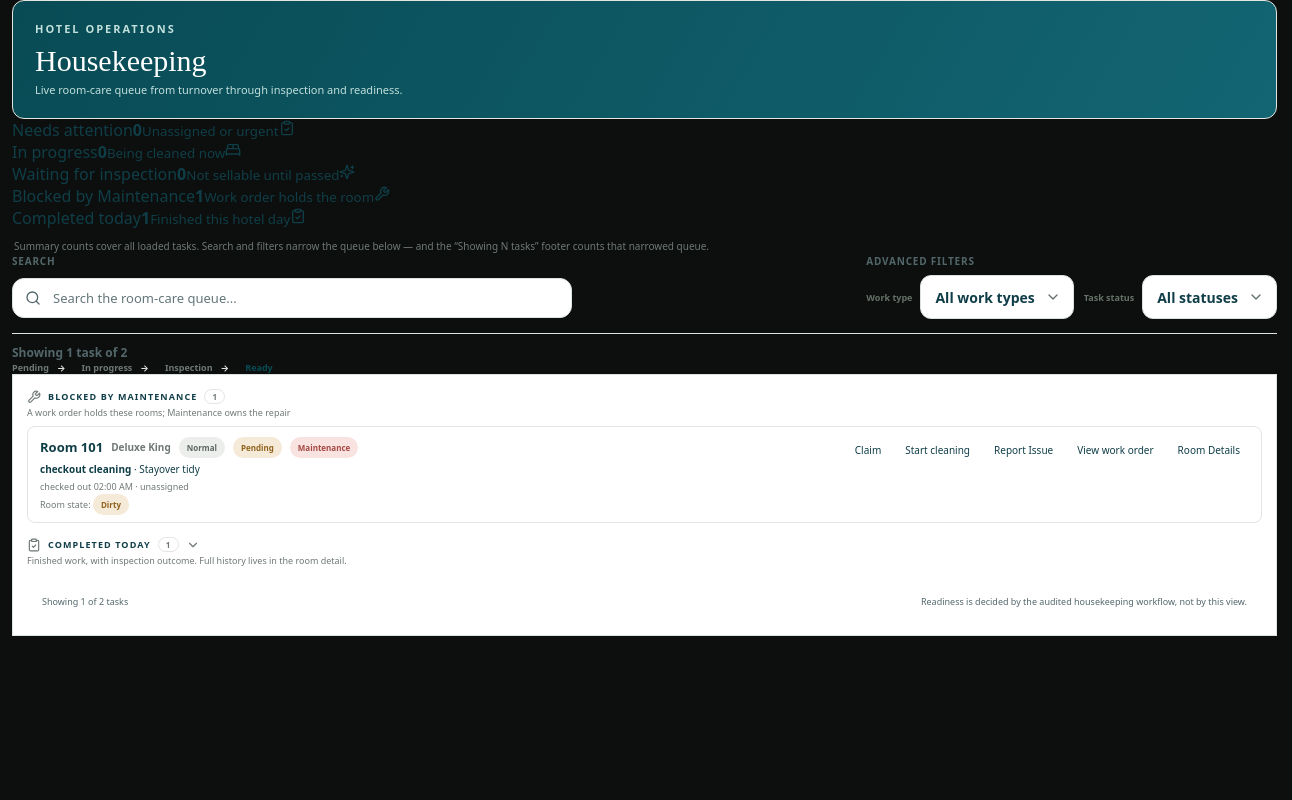
Test case: HousekeepingQueuePanel workspace › keeps completed history collapsible and the maintenance block explicit
The image size is (1292, 800).
Check: the element "Completed today" does not show "Turnover clean"
Click the button "Completed today 1". click: (99, 545)
box: [27,537,1262,552]
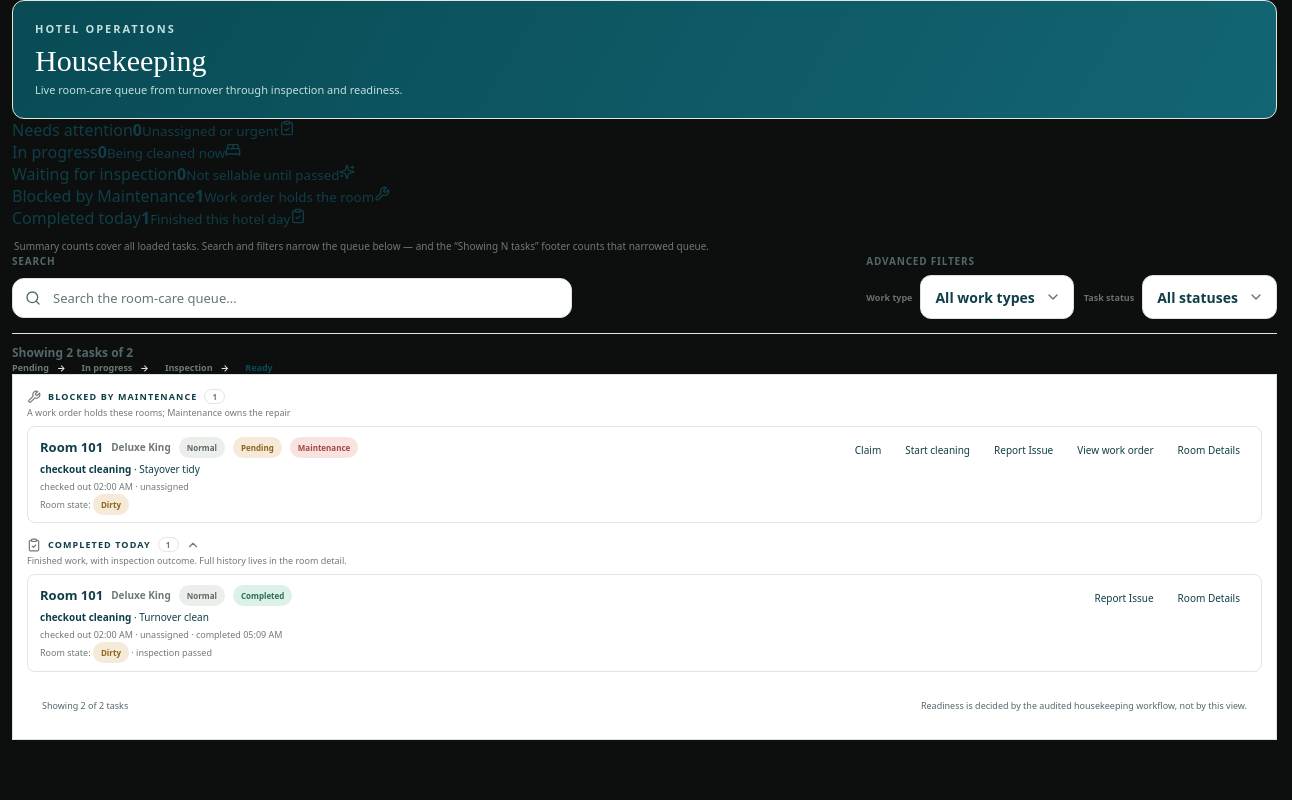
Check: the text "Blocked by Maintenance" is shown 2 times, box [12,185,195,207]; [27,389,226,404]
Check: the element "Completed today" shows "Turnover clean", box [139,610,209,624]
